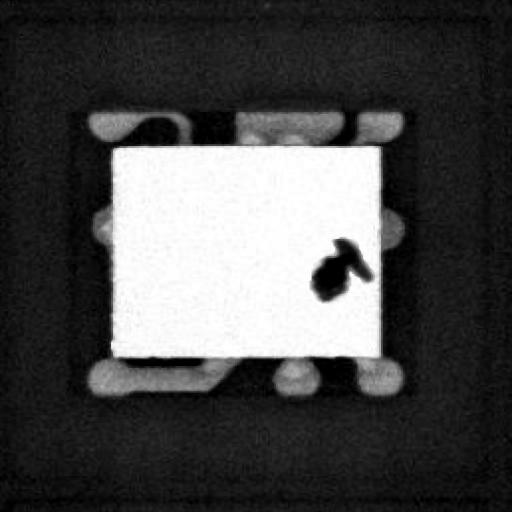DIE_INK: (294, 246, 356, 316)
